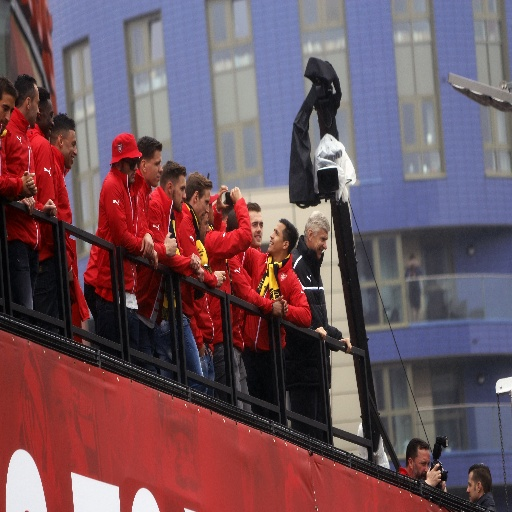hand: (19, 171, 38, 198), (18, 194, 35, 219), (425, 463, 442, 488), (21, 168, 37, 193), (139, 233, 154, 259), (216, 182, 231, 208), (274, 291, 289, 317), (163, 231, 177, 258), (147, 247, 159, 274), (42, 196, 56, 218), (212, 267, 227, 287), (338, 335, 353, 355), (187, 253, 201, 272), (313, 324, 327, 342), (229, 183, 240, 203), (195, 266, 206, 284), (271, 300, 284, 315), (440, 479, 447, 495)
